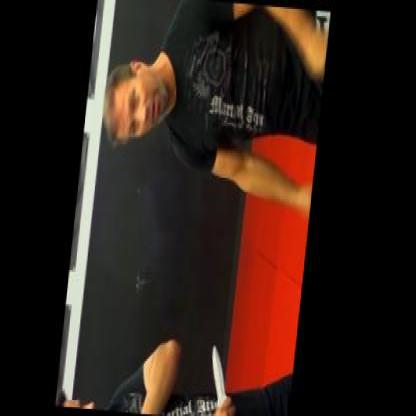knife: (209, 340, 252, 414)
